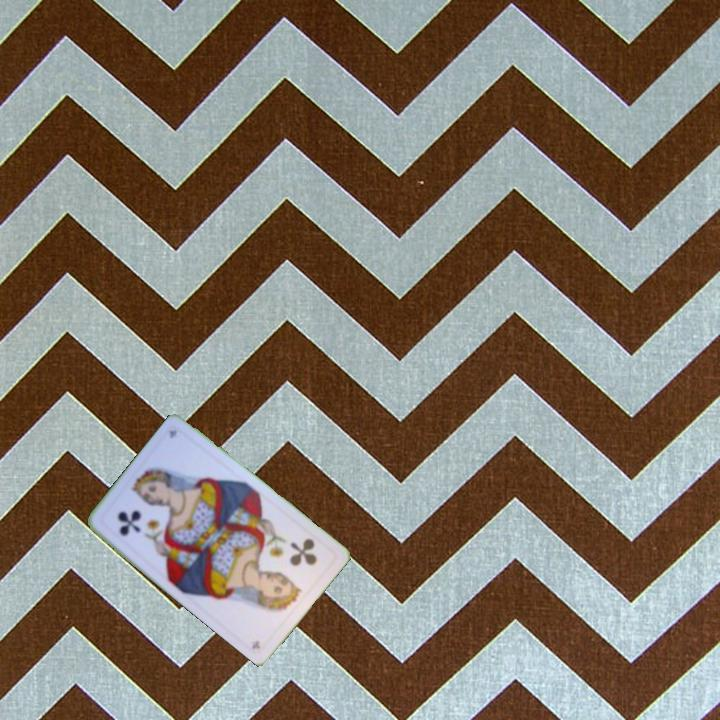c_q.png: (96, 472, 181, 558), (254, 520, 339, 606)
